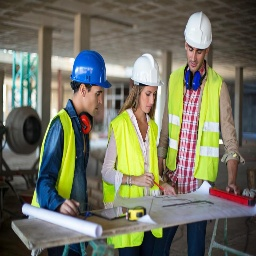helmet: (68, 48, 111, 88), (181, 10, 217, 50), (128, 53, 166, 88)
person: (162, 8, 240, 256), (33, 46, 107, 256), (101, 42, 166, 254)
vest: (106, 114, 163, 246), (36, 103, 91, 229), (167, 69, 225, 184)
